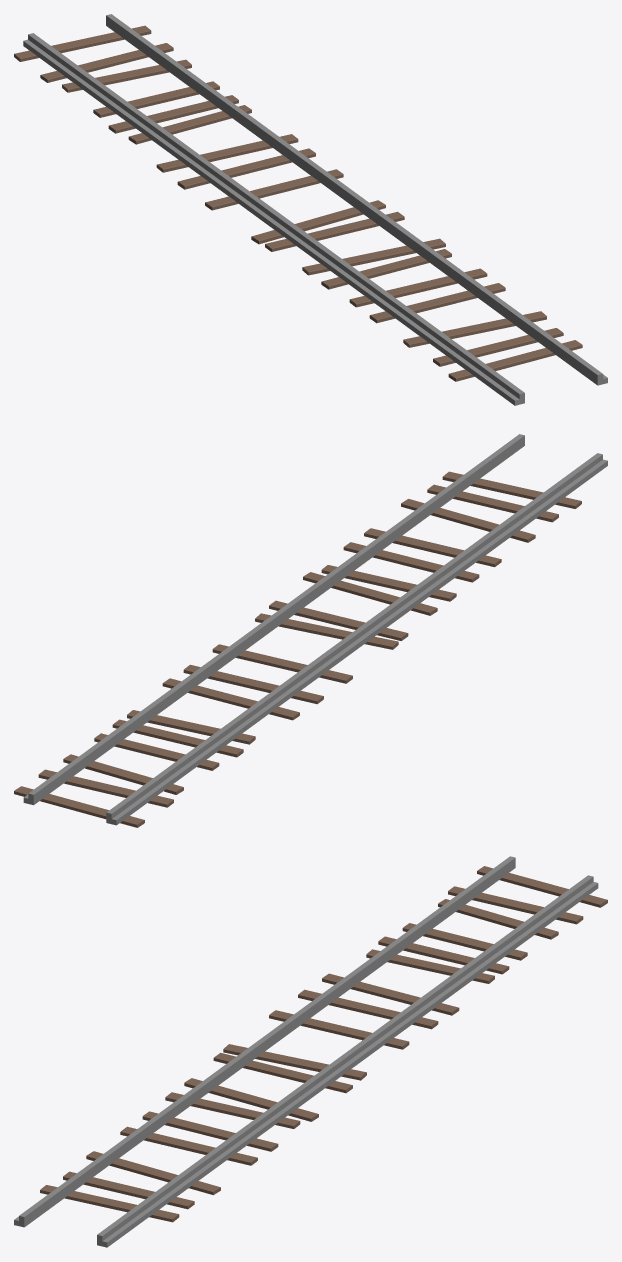
Rendered from rails.fbx.
3 views of the same model, one above another, from view 1: azimuth 30°, elevation 25°; view 2: azimuth 150°, elevation 25°; view 3: azimuth 330°, elevation 25° (orthographic).
Visible parts, largest first — view 1: Cube.031; view 2: Cube.031; view 3: Cube.031.
Part boxes in pixels (box(x1,y1,x2,y2)): Cube.031: box(14, 14, 607, 405); Cube.031: box(14, 434, 607, 827); Cube.031: box(14, 856, 607, 1247).
Bounding box in the file's own units: 974 × 90.18 × 5894.
